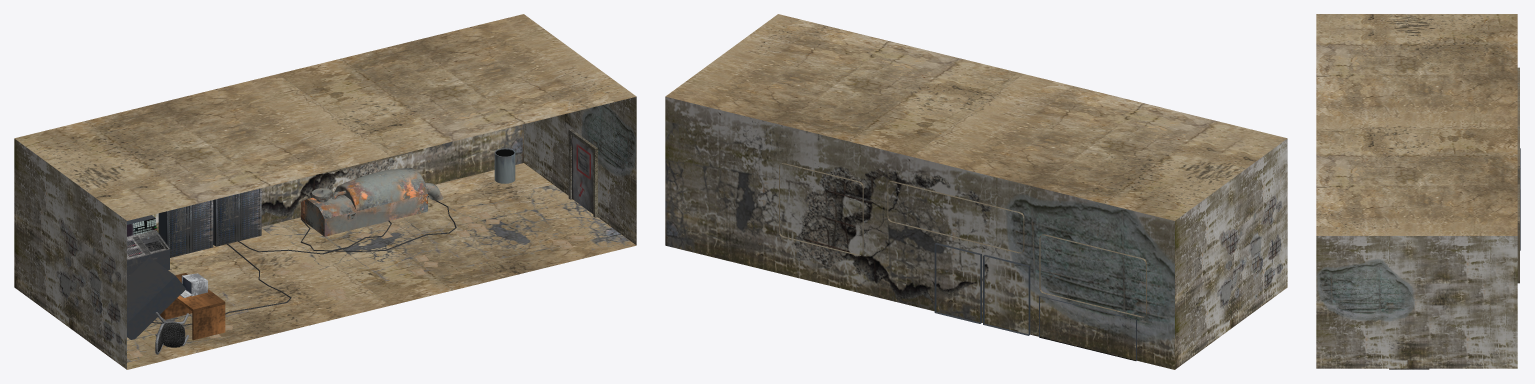
The model's file is Room2.FBX.
The picture shows the model from 3 angles, left to right: view 1: azimuth 30°, elevation 25°; view 2: azimuth 150°, elevation 25°; view 3: azimuth 270°, elevation 25°; orthographic projection. The views are drawn at different scales.
Visible parts, largest first — view 1: Box01, Box22, Cylinder05, Cylinder01, Box06; view 2: Box01, Box16, Box22; view 3: Box01, Box16.
Part boxes in pixels (x1,y1,x2,y2): Box01: [14, 14, 636, 369]; Box22: [127, 188, 261, 339]; Cylinder05: [301, 168, 443, 236]; Cylinder01: [128, 129, 597, 357]; Box06: [155, 273, 225, 354]; Box01: [665, 14, 1287, 369]; Box16: [779, 163, 1146, 317]; Box22: [934, 243, 1136, 360]; Box01: [1316, 14, 1517, 368]; Box16: [1517, 67, 1519, 283].
Size of the model in its own units: 83.8 by 23.86 by 32.62.
6 materials, 6 textured.
